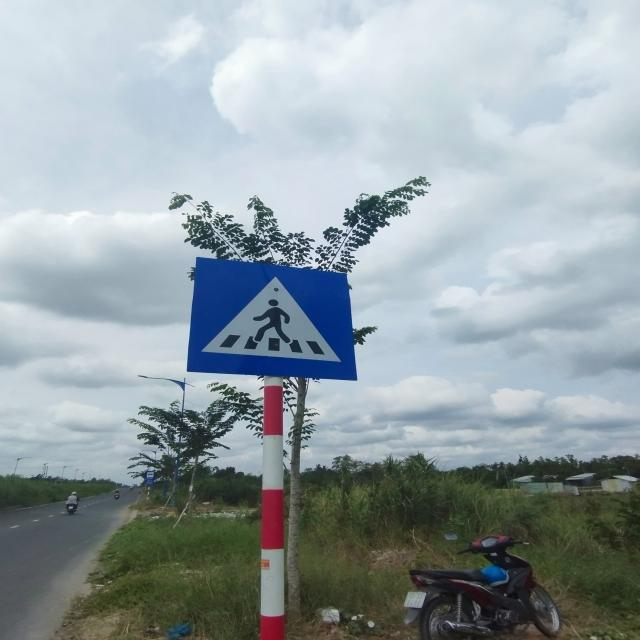Giao_Nhau_Duong_Uu_Tien: (185, 256, 359, 381)
